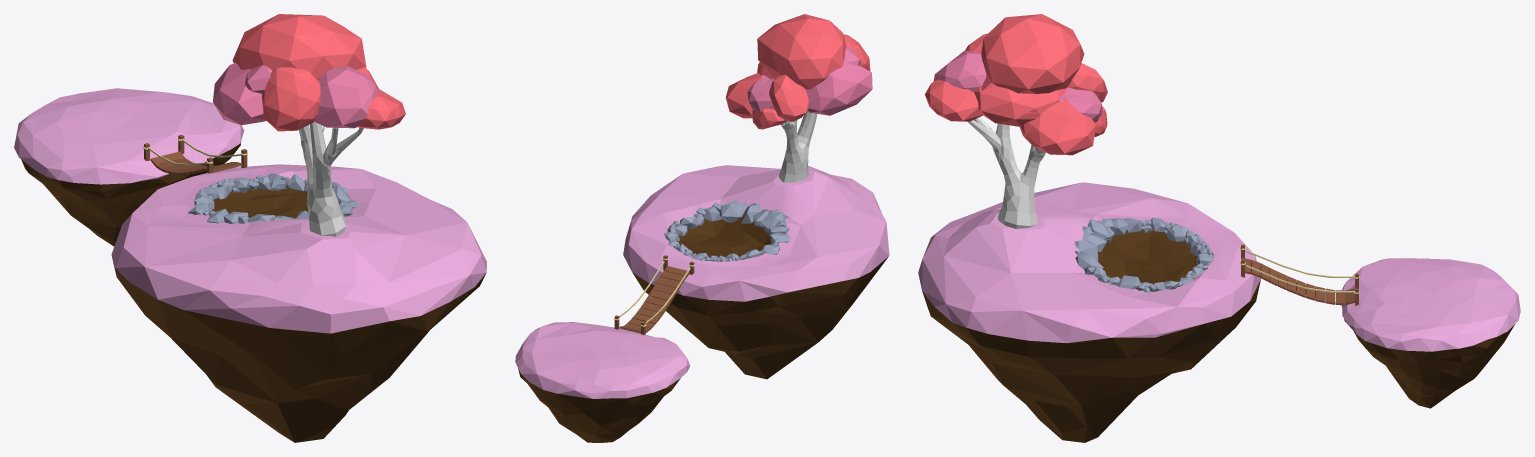
File: cherryMainIsland 1.fbx
The picture shows the model from 3 angles, left to right: view 1: azimuth 30°, elevation 25°; view 2: azimuth 150°, elevation 25°; view 3: azimuth 270°, elevation 25°; orthographic projection. The views are drawn at different scales.
Parts seen in each view (by area): view 1: Cube.005, Cube.006, Plane.008; view 2: Cube.005, Cube.006, Plane.008; view 3: Cube.005, Plane.008, Cube.006.
Boxes of the visible parts, x1,y1,x2,y2 form: Cube.005: (111, 134, 486, 442); Cube.006: (14, 88, 244, 246); Plane.008: (213, 14, 405, 236); Cube.005: (614, 165, 889, 379); Cube.006: (515, 322, 689, 442); Plane.008: (725, 14, 872, 182); Cube.005: (918, 182, 1359, 442); Plane.008: (925, 14, 1107, 228); Cube.006: (1341, 258, 1520, 408).
Size of the model in its own units: 3576 by 5009 by 6742.
